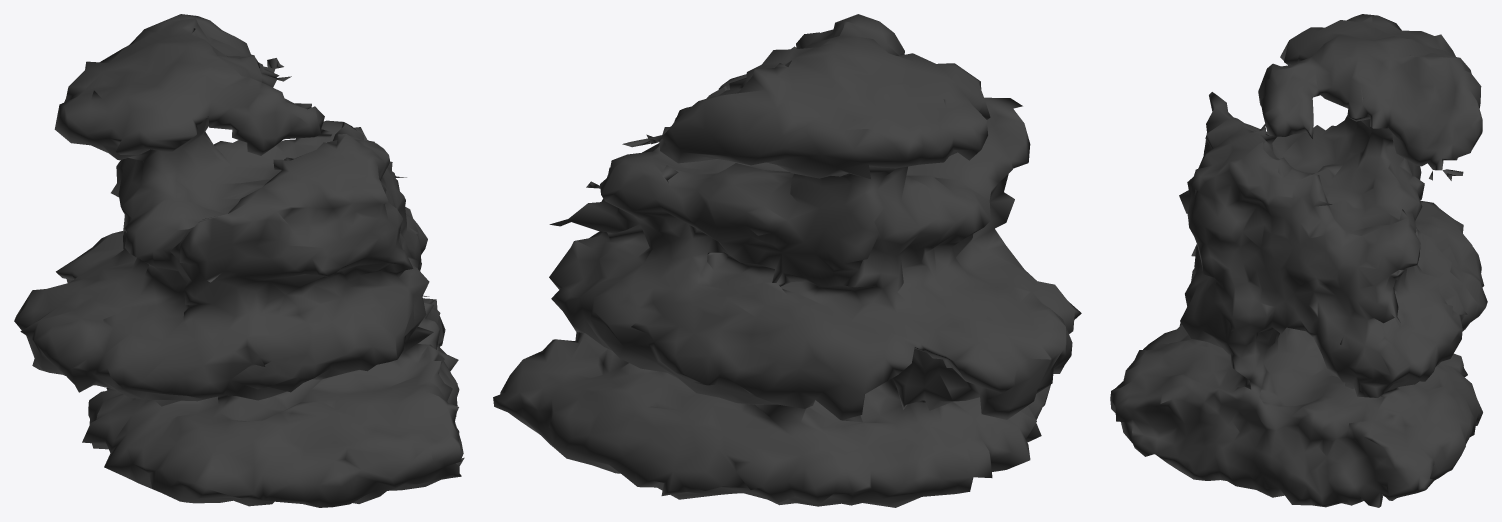
Rendered from strata-2.glb.
The picture shows the model from 3 angles, left to right: view 1: azimuth 30°, elevation 25°; view 2: azimuth 150°, elevation 25°; view 3: azimuth 270°, elevation 25°; orthographic projection. The views are drawn at different scales.
Parts seen in each view (by area): view 1: geometry_0; view 2: geometry_0; view 3: geometry_0.
Boxes of the visible parts, x1=… form: geometry_0: x1=14, y1=14, x2=464, y2=507; geometry_0: x1=493, y1=14, x2=1081, y2=507; geometry_0: x1=1110, y1=14, x2=1487, y2=507.
Bounding box in the file's own units: 1.16 × 1 × 0.91.
Materials: 1 (1 with a texture image).
